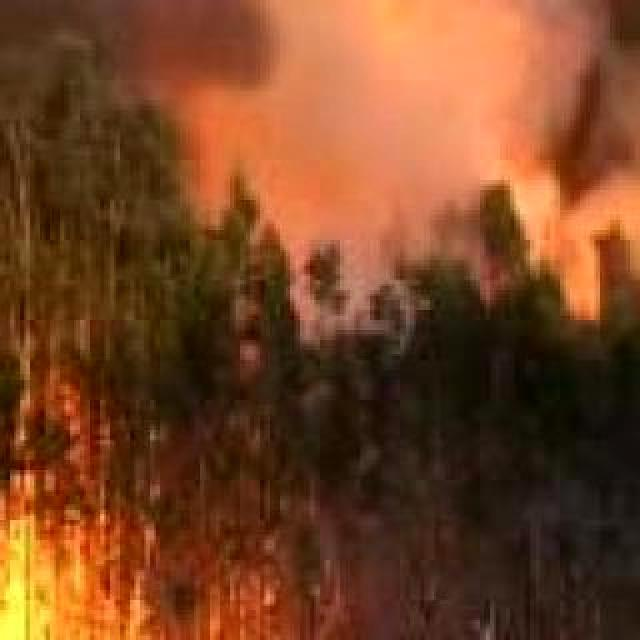fire: (0, 500, 338, 640)
